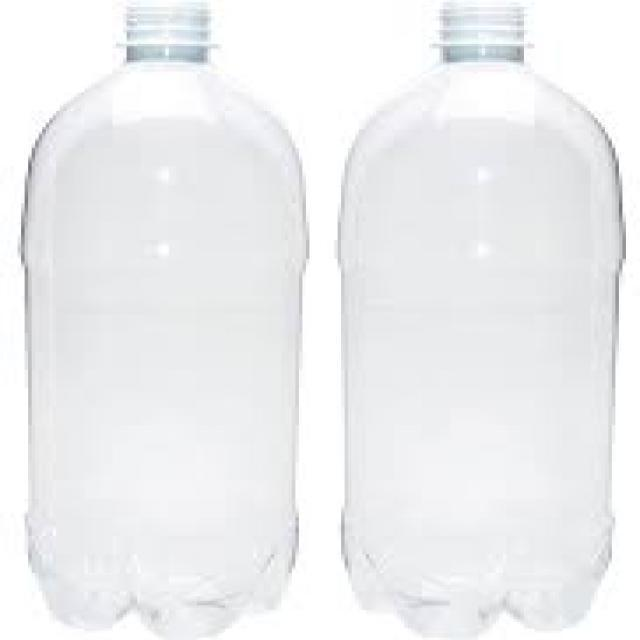Plastic: (332, 4, 628, 636), (32, 2, 314, 634)
